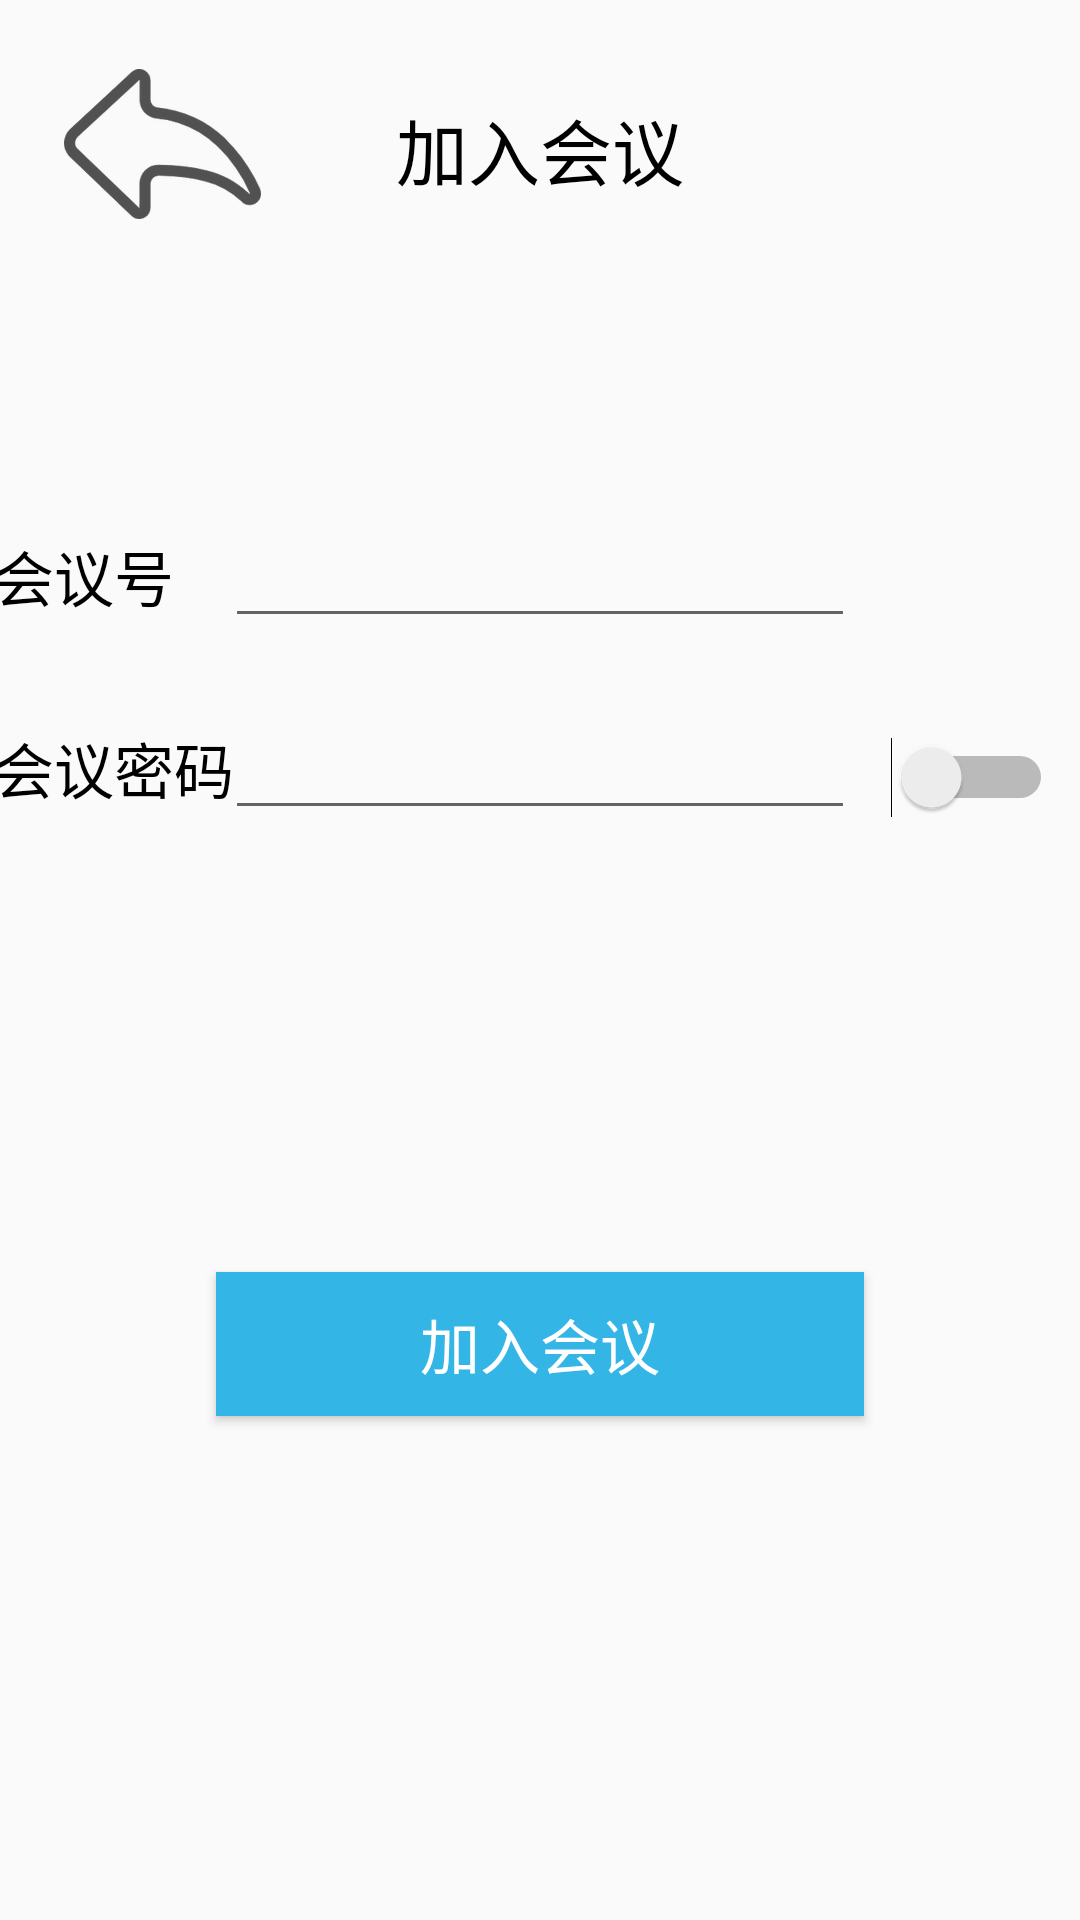

Where icons sit on this 1080×1920 app screen, as (x1, y1, x2, y2):
fanhui: (64, 69, 261, 219)
